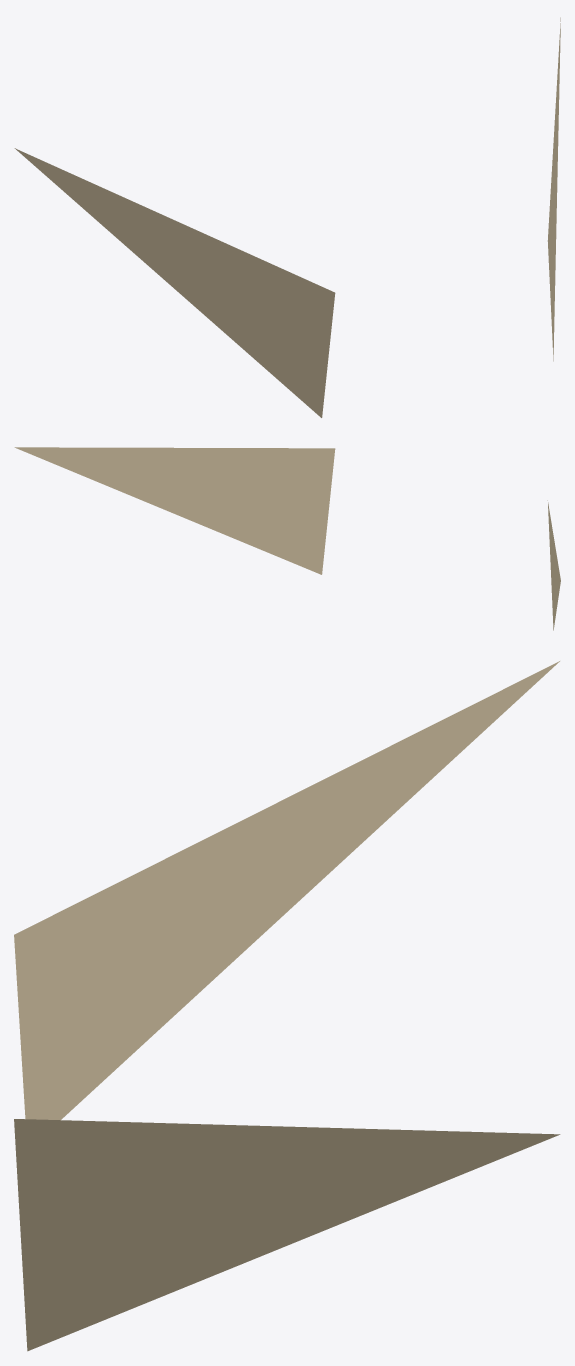
File: elf_ears_2.fbx
The picture shows the model from 3 angles, top to bottom: view 1: azimuth 30°, elevation 25°; view 2: azimuth 150°, elevation 25°; view 3: azimuth 270°, elevation 25°; orthographic projection. The views are drawn at different scales.
Visible parts, largest first — view 1: ElfEars; view 2: ElfEars; view 3: ElfEars.
Boxes of the visible parts, bbox=[...] form: ElfEars: bbox=[14, 17, 560, 417]; ElfEars: bbox=[14, 447, 560, 630]; ElfEars: bbox=[14, 661, 560, 1351].
Bounding box in the file's own units: 75.22 × 26.19 × 36.69.
